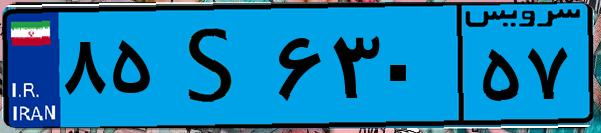0: (385, 28, 445, 110)
3: (330, 28, 385, 110)
5: (475, 38, 525, 113), (110, 28, 158, 98)
6: (270, 28, 330, 110)
7: (525, 38, 570, 115)
8: (57, 26, 110, 100)
S: (158, 12, 270, 120)
